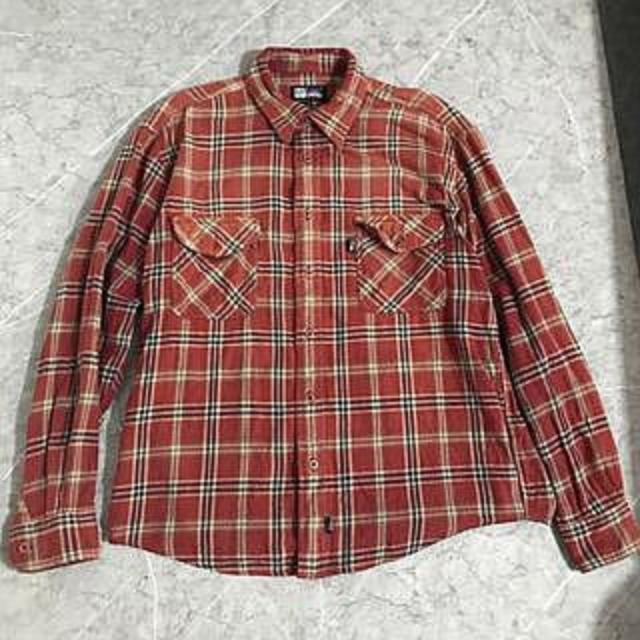SHIRT: (0, 42, 640, 591)
